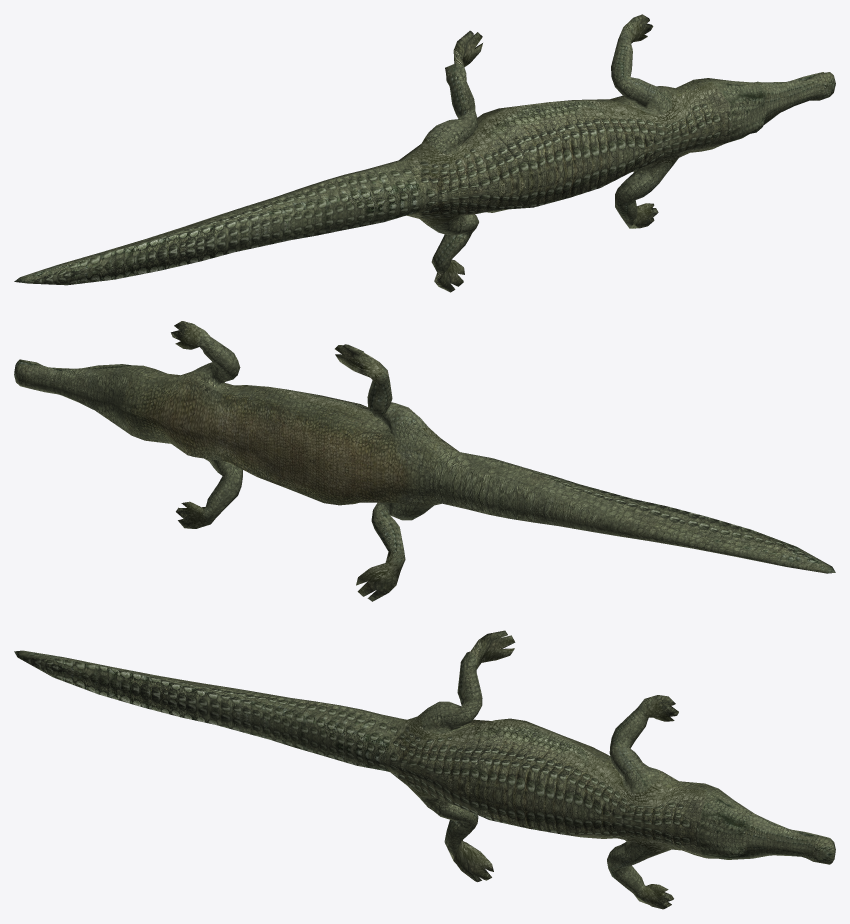
Rendered from alligator_000158.obj.
The picture shows the model from 3 angles, top to bottom: view 1: azimuth 30°, elevation 25°; view 2: azimuth 150°, elevation 25°; view 3: azimuth 330°, elevation 25°; orthographic projection.
Parts seen in each view (by area): view 1: mesh1.002_mesh1-geometry; view 2: mesh1.002_mesh1-geometry; view 3: mesh1.002_mesh1-geometry.
Part boxes in pixels (x1,y1,x2,y2): mesh1.002_mesh1-geometry: [14, 14, 835, 292]; mesh1.002_mesh1-geometry: [14, 321, 835, 601]; mesh1.002_mesh1-geometry: [14, 630, 835, 909].
Size of the model in its own units: 18.39 by 5.44 by 1.82.
